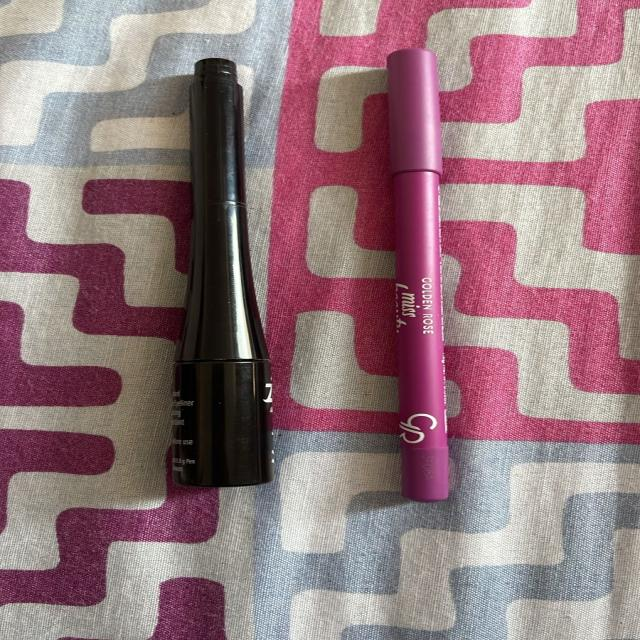eye liner: (162, 60, 276, 492), (378, 50, 462, 502)
